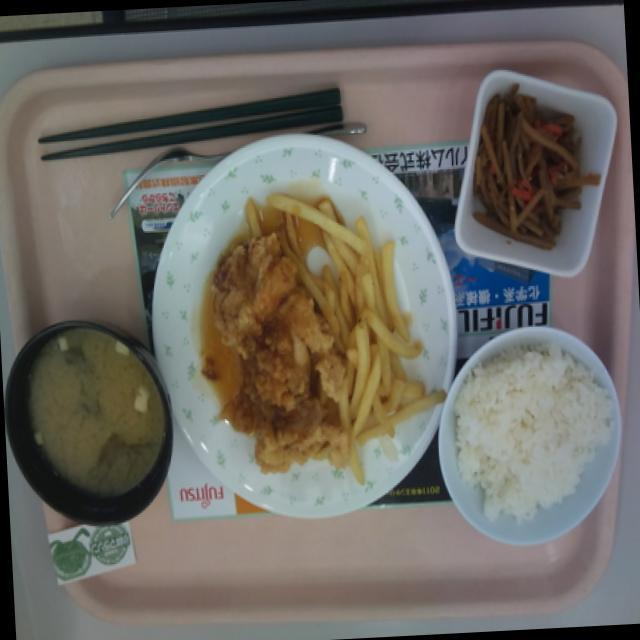French Fries: (309, 192, 424, 456)
Rice: (453, 364, 623, 530)
